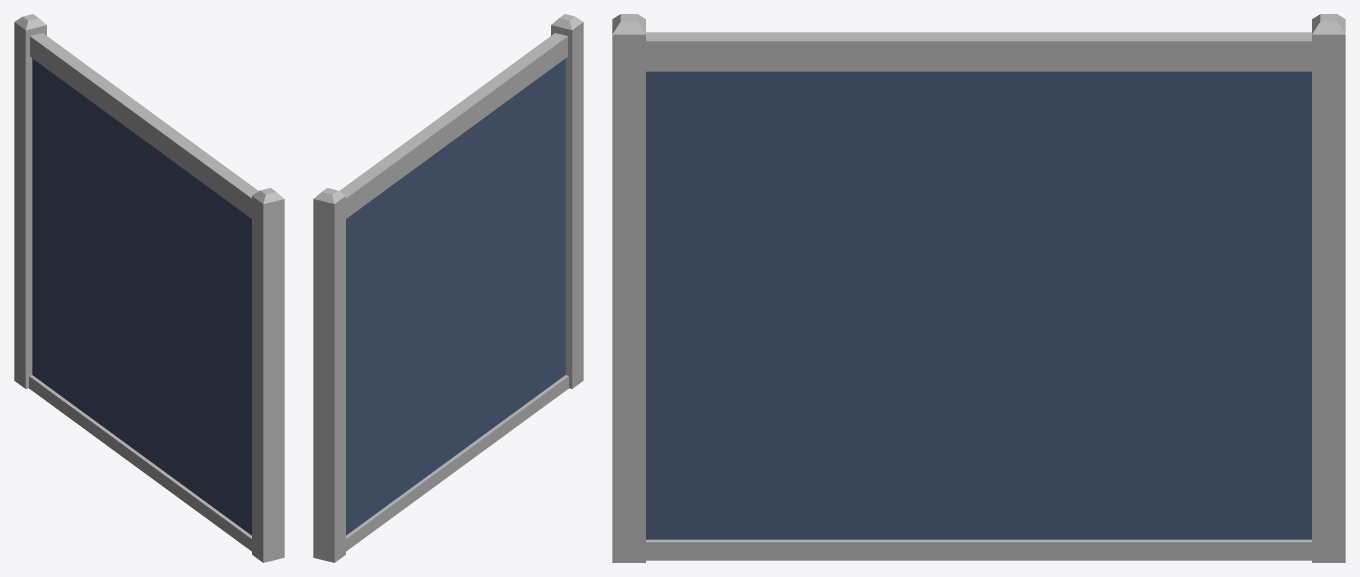
The model's file is Office Wall 2.fbx.
3 views of the same model, side by side, from view 1: azimuth 30°, elevation 25°; view 2: azimuth 150°, elevation 25°; view 3: azimuth 270°, elevation 25° (orthographic). The views are drawn at different scales.
Visible parts, largest first — view 1: pCube26, pasted__pCube26; view 2: pCube26, pasted__pCube26; view 3: pCube26, pasted__pCube26.
Part boxes in pixels (x1,y1,x2,y2): pCube26: (14,14,258,551); pasted__pCube26: (252,188,284,562); pCube26: (313,33,568,562); pasted__pCube26: (551,14,583,388); pCube26: (646,14,1345,562); pasted__pCube26: (612,14,645,562).
Bounding box in the file's own units: 1 × 16.42 × 20.31.
